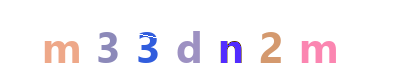2: (190, 0, 270, 80)
3: (115, 0, 195, 80), (118, 0, 198, 80)
D: (137, 0, 217, 80)
M: (109, 0, 189, 80), (278, 0, 358, 80)
N: (158, 0, 238, 80)
